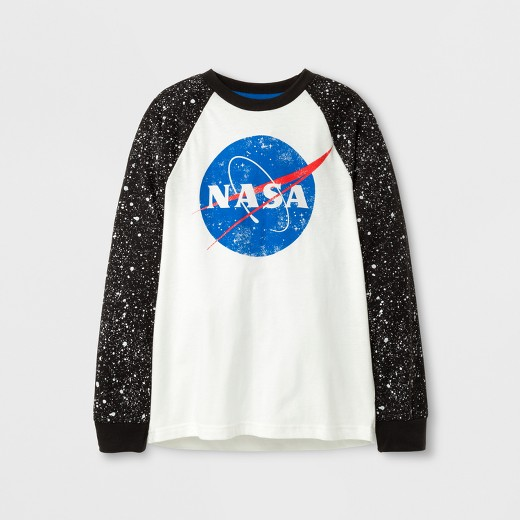NASA: (193, 136, 337, 255)
